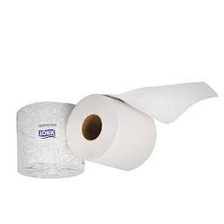tissue: (60, 77, 224, 176), (10, 97, 88, 183)
